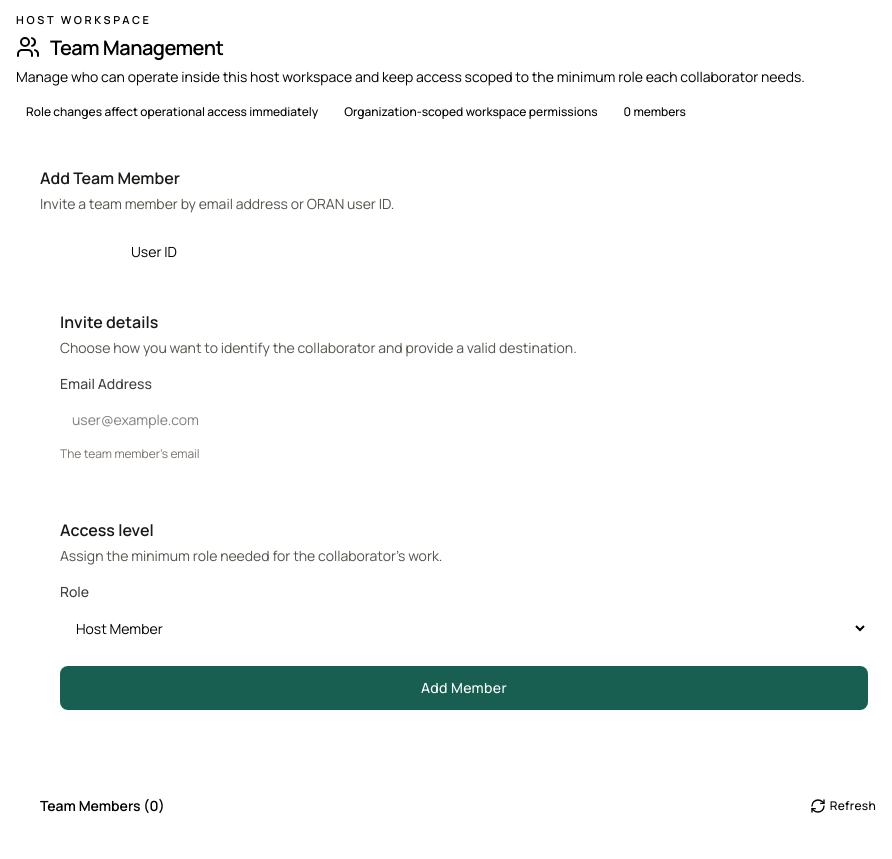
host admins page › validates UUID input and adds a member successfully
# Switch to UUID input mode (default is email)
Click the button "User ID" at (154, 252), box [115,230,193,274]
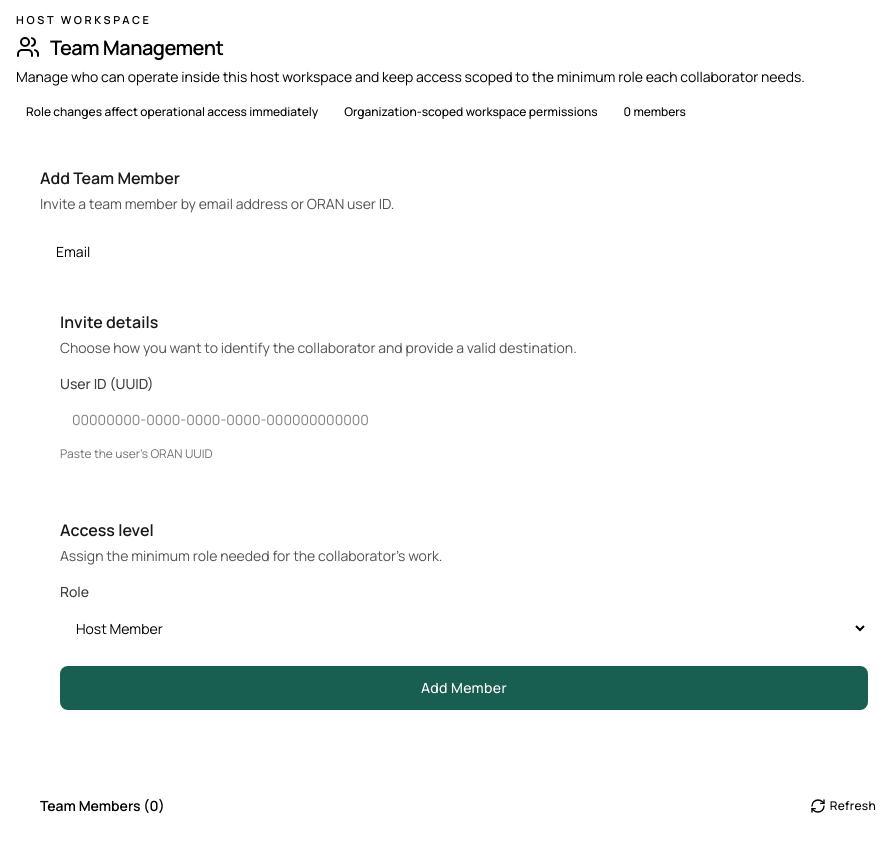
Type "not-a-uuid" into the field labelled "User ID (UUID)" at (464, 420), box [60,398,868,442]
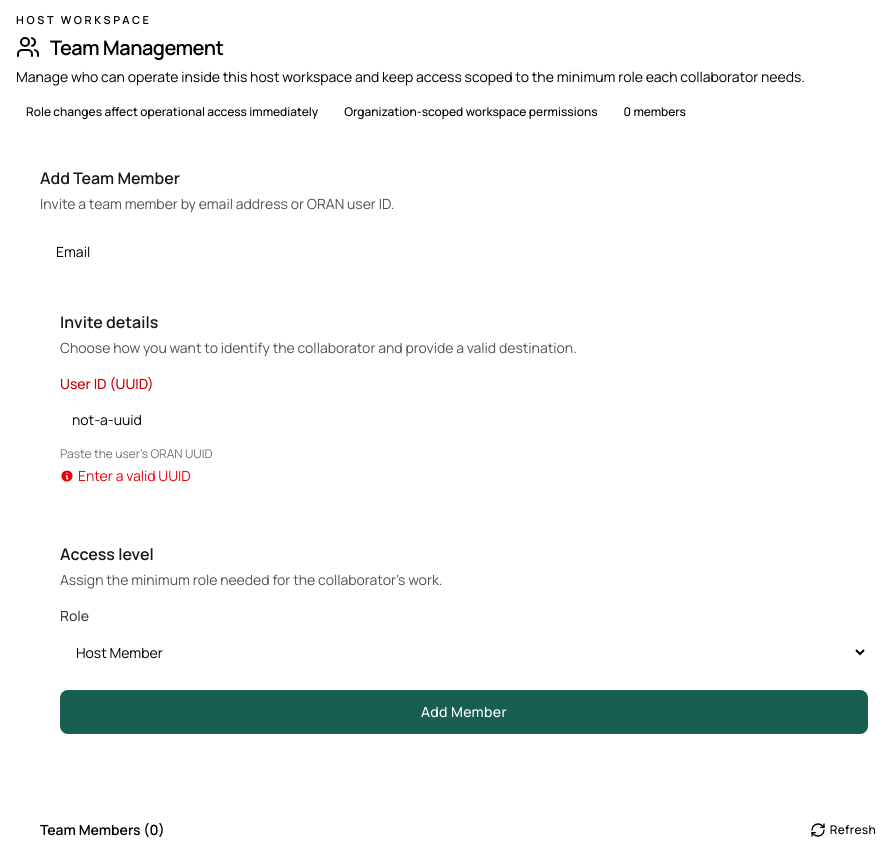
Expected: the button "Add Member" is disabled, [60,690,868,734]
Replace the text in the field labelled "User ID (UUID)" with "22222222-2222-4222-8222-222222222222" at (464, 420), box [60,398,868,442]
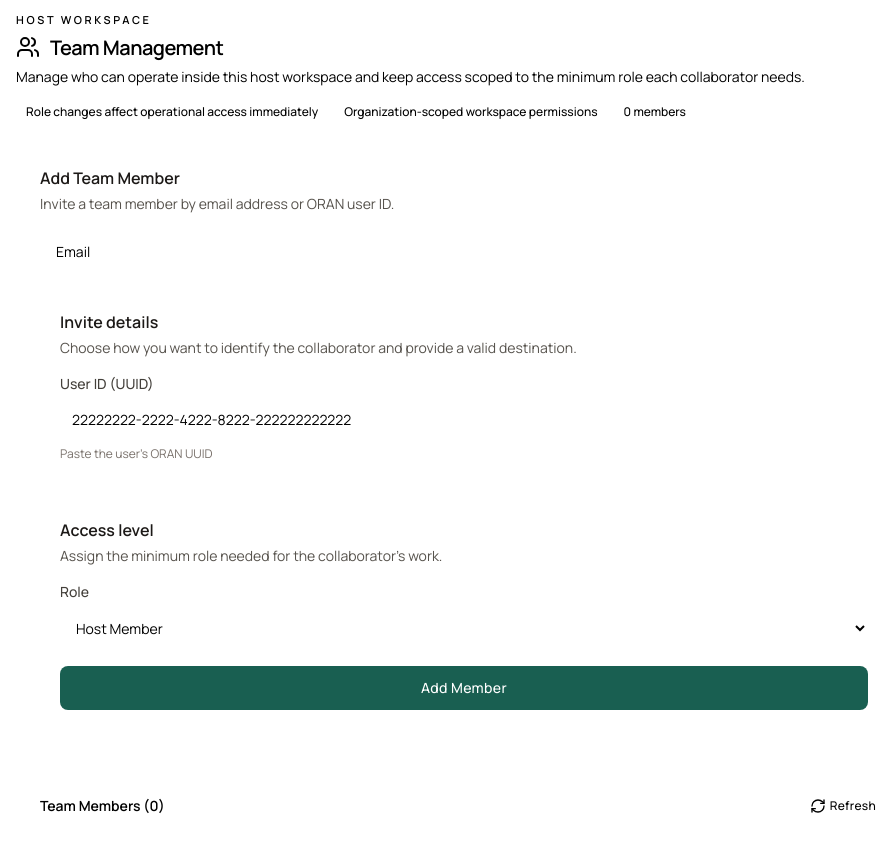
Select "Host Admin" in the dropdown labelled "Role" at (464, 628), box [60,606,868,650]
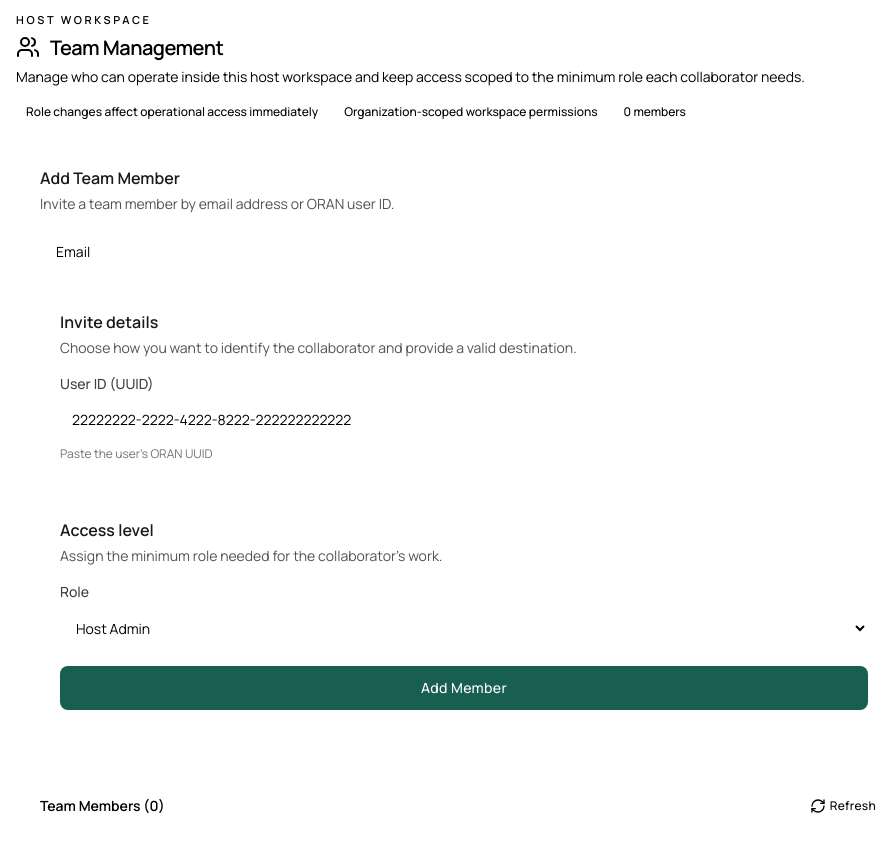
Click the button "Add Member" at (464, 688), box [60,666,868,710]
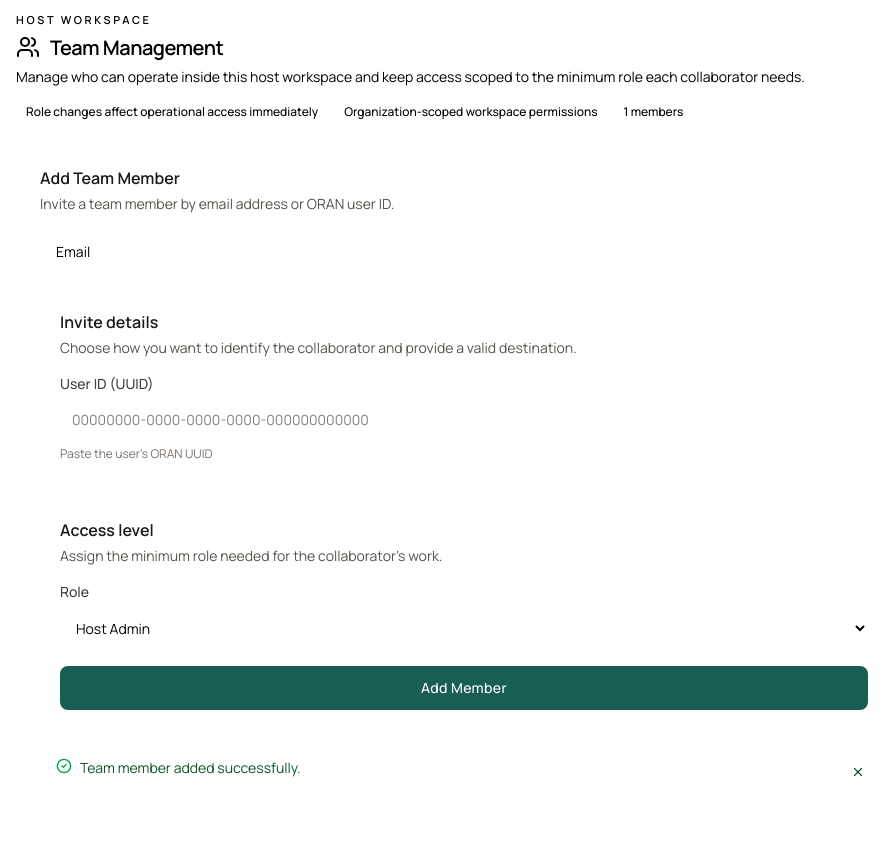
Expected: the message reads "Team member added successfully.", [80,758,301,777]
